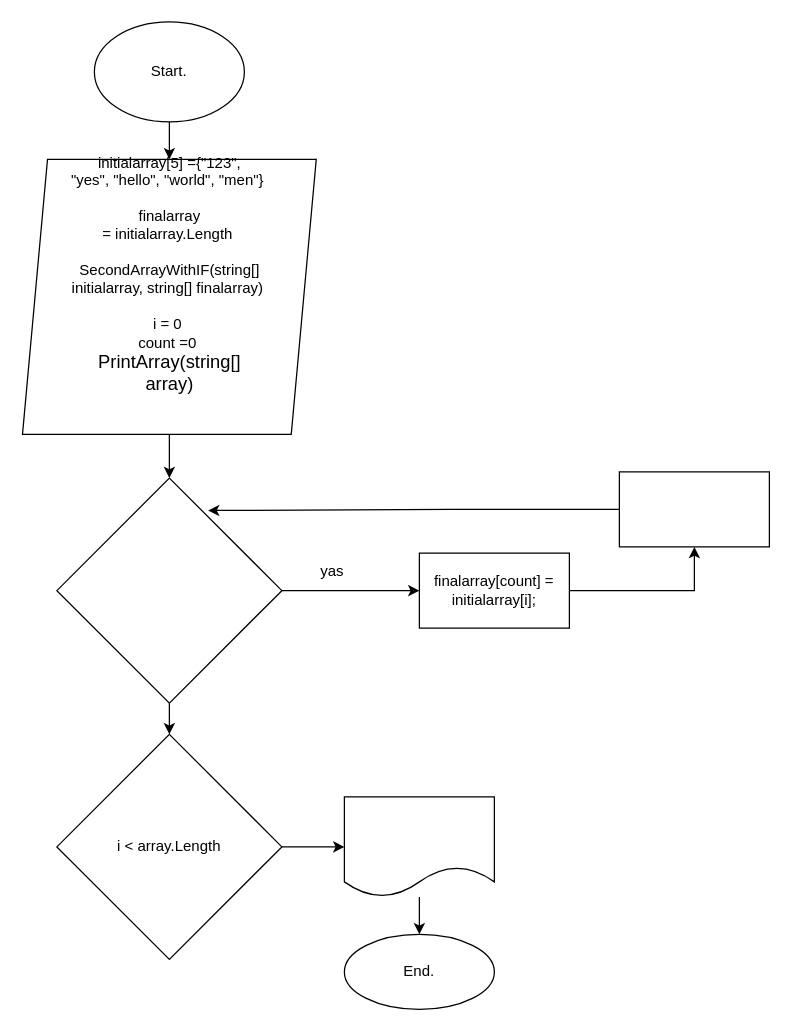
The diagram is 791 pixels wide and 1031 high, and some of its shapes have lost their labels. Each missing label, with the centre of its shape:
"count ++ i++" belongs at point 693,509.
"initialarray[i].Length <= 3 i< initialarray.Length" belongs at point 169,590.
"Print array[i]" belongs at point 418,846.
